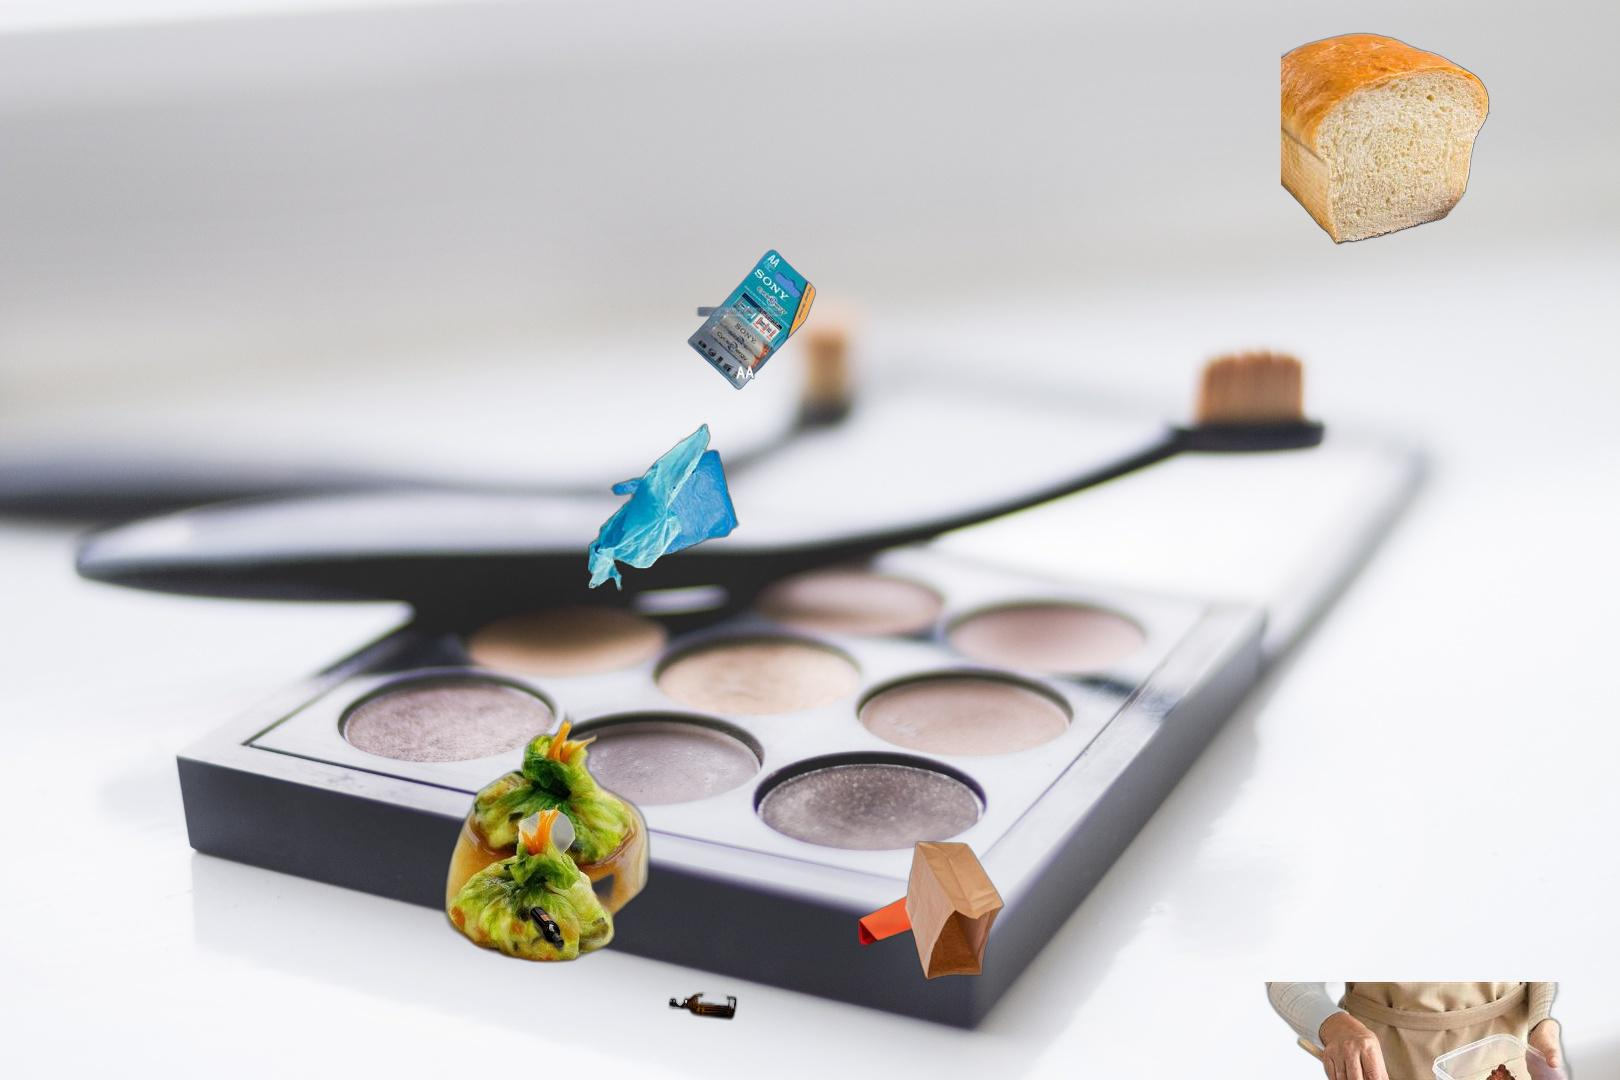battery: (685, 247, 818, 392)
biological: (442, 702, 656, 965), (1281, 30, 1492, 250), (1260, 982, 1574, 1080)
glass: (444, 900, 742, 1080)
paper-bag: (855, 838, 1006, 984)
plastic-bag: (585, 422, 742, 595)
